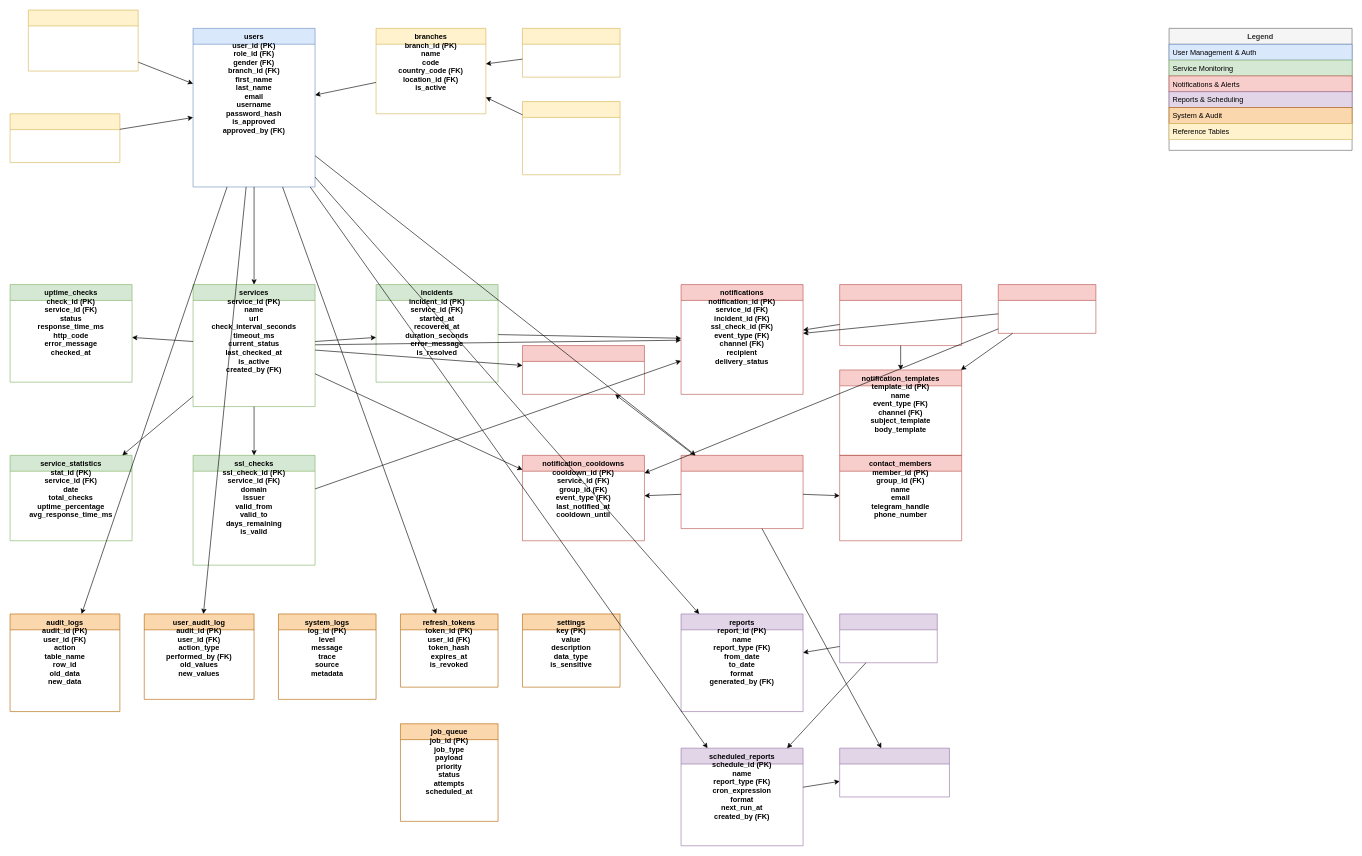
The diagram is 1362 pixels wide and 856 high, and some of its shapes have lost their labels. Here are the shapes that lost their labels. From the top down, the centre of each, then its label:
At [83,40]: "roles role_id (PK) role_name description".
At [571,52]: "countries country_code (PK) name".
At [64,138]: "genders gender (PK) description".
At [571,138]: "locations location_id (PK) name parent_id (FK) location_type".
At [900,315]: "notification_channels channel (PK) description is_enabled".
At [1047,308]: "event_types event_type (PK) description".
At [583,369]: "service_contact_groups service_id (PK,FK) group_id (PK,FK)".
At [741,492]: "contact_groups group_id (PK) name description is_active created_by (FK)".
At [888,638]: "report_types report_type (PK) description".
At [894,772]: "report_recipients schedule_id (PK,FK) group_id (PK,FK)".
